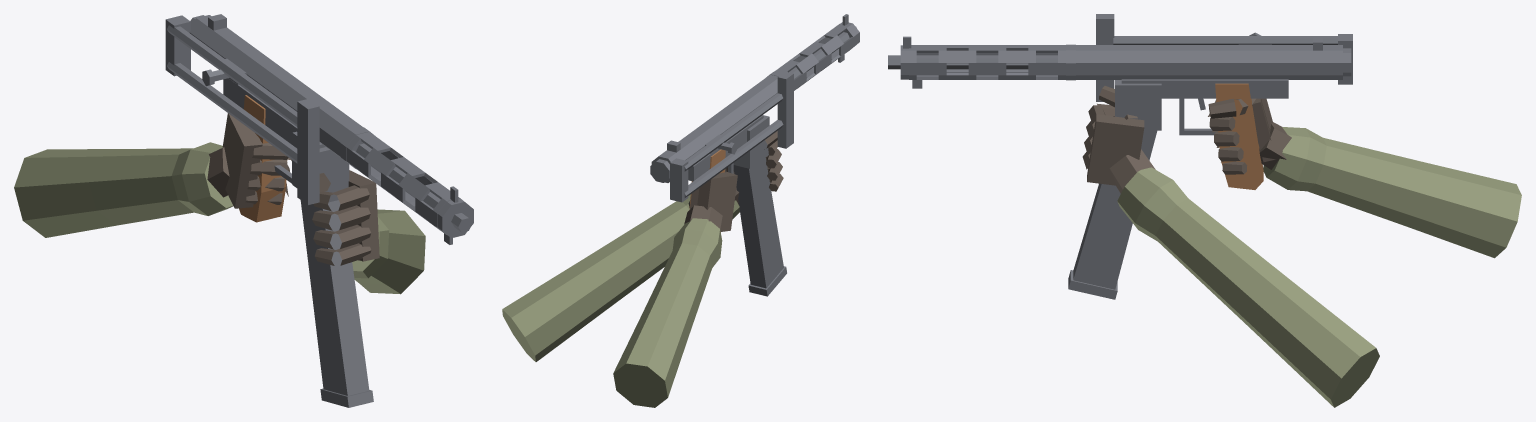
File: kpist.glb
3 renders of one model, left to right at view 1: azimuth 30°, elevation 25°; view 2: azimuth 150°, elevation 25°; view 3: azimuth 270°, elevation 25°, orthographic. The views are drawn at different scales.
Visible parts, largest first — view 1: frame, arm_r, magazine, hand_l, hand_r, arm_l, jacket, grip; view 2: arm_l, arm_r, frame, magazine, hand_r, jacket, hand_l; view 3: frame, arm_l, arm_r, magazine, jacket, hand_l, hand_r, grip.
Part boxes in pixels (x1,y1,x2,y2): frame: (165,14,473,244); arm_r: (14,142,233,237); magazine: (300,200,373,407); hand_l: (312,170,379,265); hand_r: (207,113,291,208); arm_l: (352,209,425,294); jacket: (346,132,465,234); grip: (239,95,287,222); arm_l: (502,194,739,361); arm_r: (613,218,722,407); frame: (650,14,859,202); magazine: (733,157,786,296); hand_r: (684,172,737,231); jacket: (775,23,856,90); hand_l: (725,131,783,204); frame: (888,14,1352,135); arm_l: (1117,167,1379,407); arm_r: (1263,127,1521,258); magazine: (1068,130,1157,299); jacket: (909,45,1065,79); hand_l: (1082,86,1155,193); hand_r: (1208,98,1291,174); grip: (1215,83,1263,189).
Size of the model in its own units: 0.3809 by 0.3919 by 0.7595.
